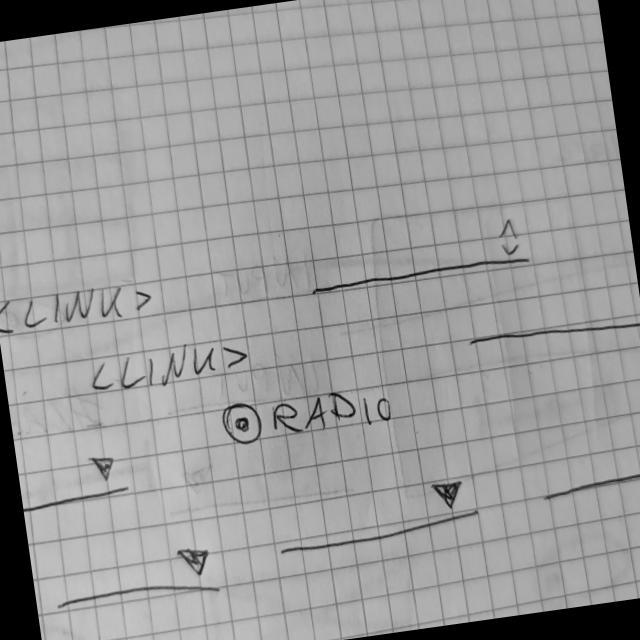link: (88, 335, 255, 402), (1, 274, 156, 339)
number-input: (305, 211, 535, 300), (459, 267, 640, 355), (534, 426, 640, 505)
radio: (218, 380, 397, 453)
select: (272, 476, 486, 562), (48, 541, 226, 620), (18, 448, 135, 516)
